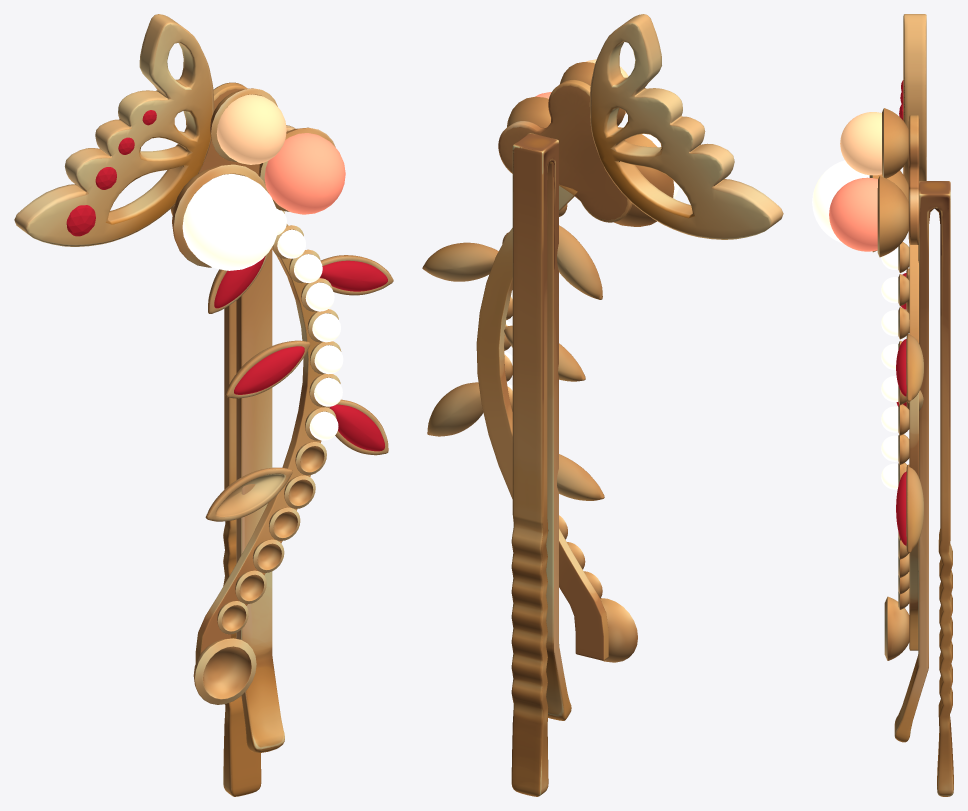
The picture shows the model from 3 angles, left to right: view 1: azimuth 30°, elevation 25°; view 2: azimuth 150°, elevation 25°; view 3: azimuth 270°, elevation 25°; orthographic projection. The views are drawn at different scales.
Visible parts, largest first — view 1: hairakuse; view 2: hairakuse; view 3: hairakuse.
Boxes of the visible parts, box(x1,y1,x2,y2) form: hairakuse: box(14, 14, 393, 796); hairakuse: box(422, 14, 783, 796); hairakuse: box(812, 14, 953, 796).
Bounding box in the file's own units: 72.64 × 152 × 26.6.
